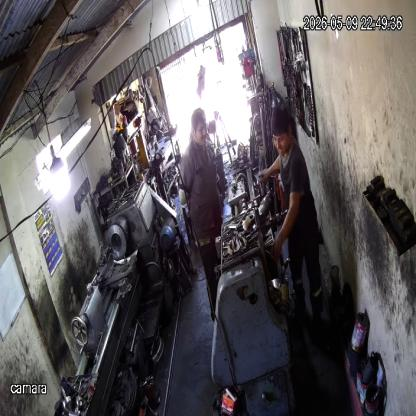sin_lentes: (272, 132, 286, 146)
